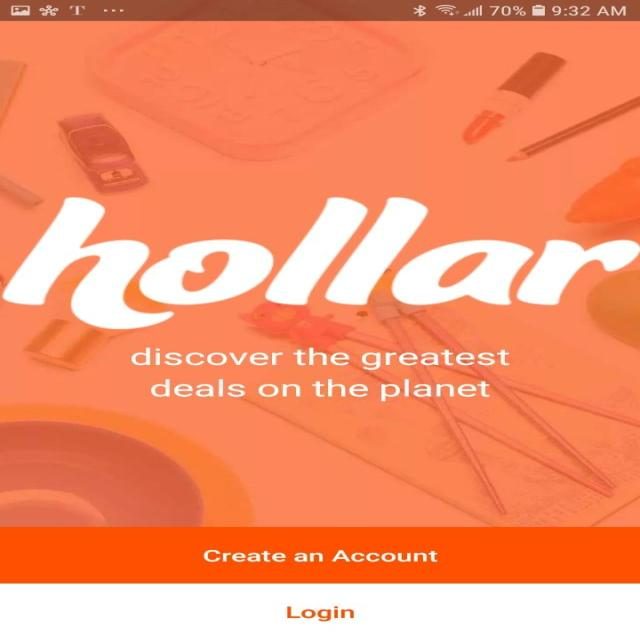BackgroundImage: (0, 21, 639, 527)
Image: (3, 196, 640, 330)
Text: (130, 347, 510, 402)
TextButton: (0, 526, 639, 584), (0, 583, 639, 640)
